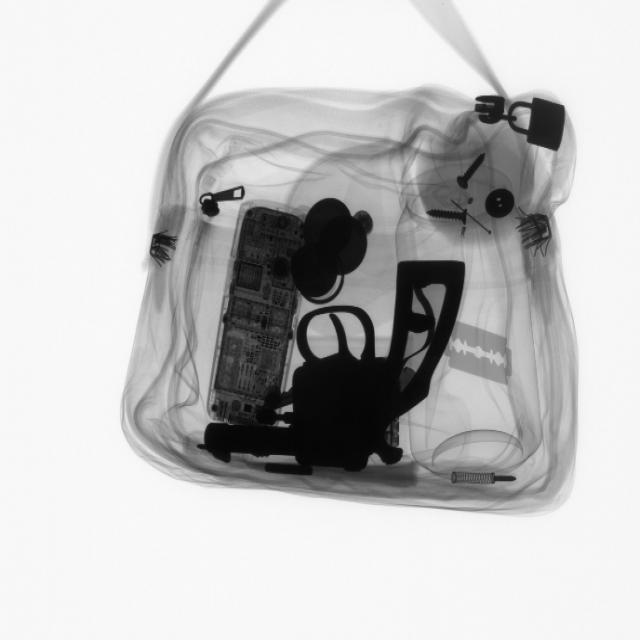BLADE: (444, 315, 516, 386)
GUN: (200, 254, 462, 473)
SCREW: (450, 143, 491, 200), (417, 198, 480, 234)
